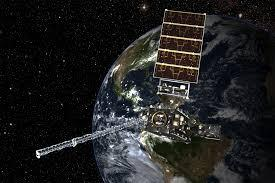body: (144, 107, 194, 144)
solar: (152, 8, 207, 85)
